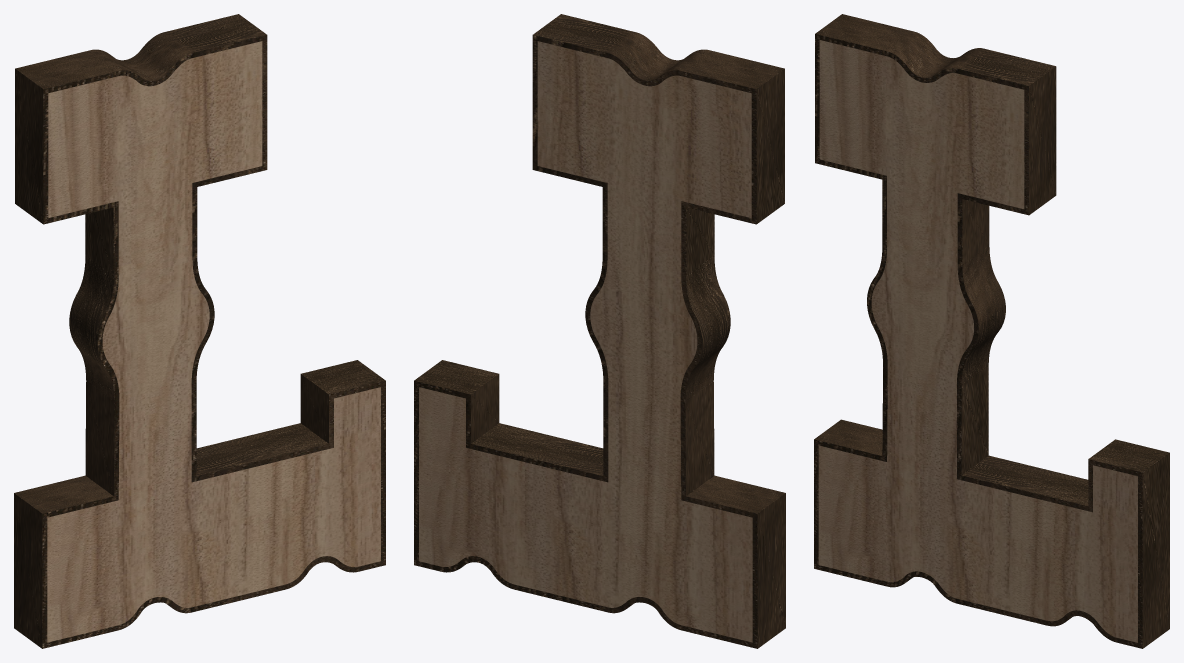
The picture shows the model from 3 angles, left to right: view 1: azimuth 30°, elevation 25°; view 2: azimuth 150°, elevation 25°; view 3: azimuth 330°, elevation 25°; orthographic projection. The views are drawn at different scales.
Parts seen in each view (by area): view 1: L, L_outline; view 2: L, L_outline; view 3: L, L_outline.
Part boxes in pixels (<box>): L: <box>47,41,380,642</box>; L_outline: <box>14,14,385,648</box>; L: <box>419,41,752,642</box>; L_outline: <box>414,14,785,648</box>; L: <box>818,40,1137,642</box>; L_outline: <box>814,14,1169,648</box>.
Size of the model in its own units: 69.95 by 109 by 10.
2 materials, 2 textured.
